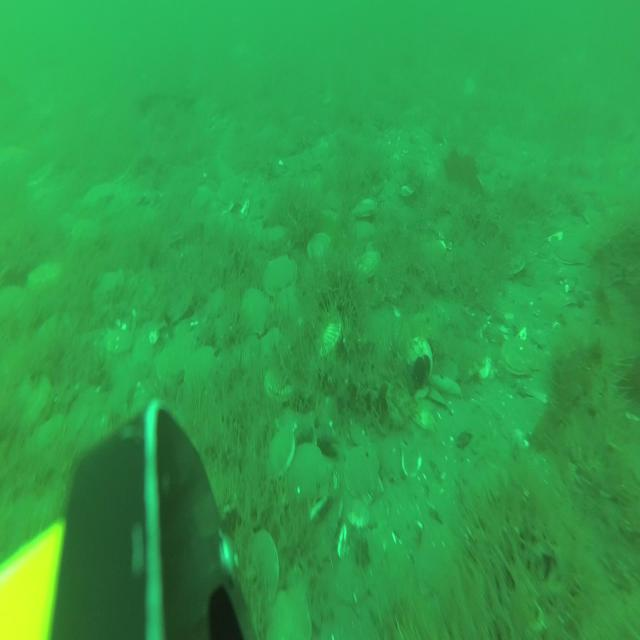scallop: (246, 529, 281, 607), (269, 580, 312, 640), (289, 445, 327, 506), (348, 446, 382, 505), (157, 334, 189, 390), (240, 289, 276, 338), (189, 342, 218, 394), (268, 424, 296, 477), (264, 253, 296, 297), (500, 338, 529, 384), (260, 324, 288, 370), (29, 256, 64, 292), (265, 366, 296, 406), (315, 314, 341, 356), (96, 271, 122, 306), (74, 217, 101, 248), (306, 234, 332, 266), (356, 249, 379, 282), (104, 323, 130, 352), (219, 174, 243, 205), (208, 283, 228, 315), (355, 194, 378, 220)
